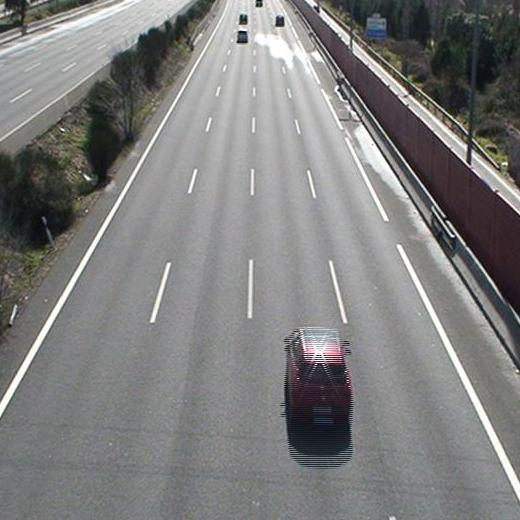car: (285, 328, 353, 432), (236, 29, 248, 42)
